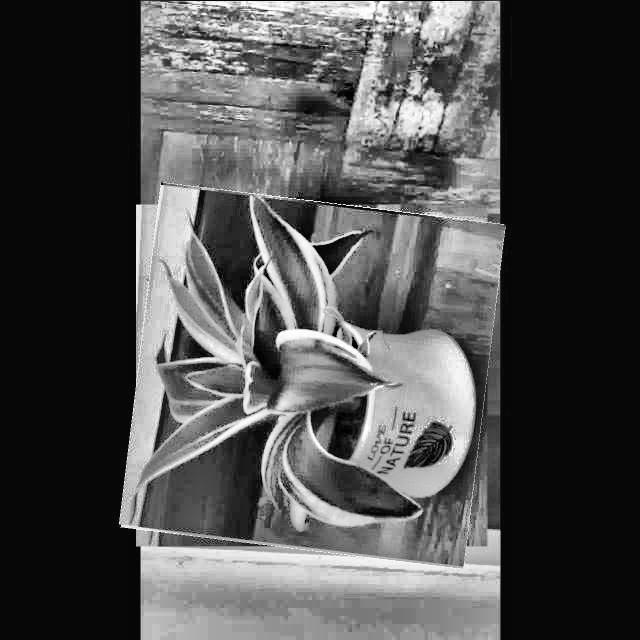plants: (128, 192, 495, 558)
